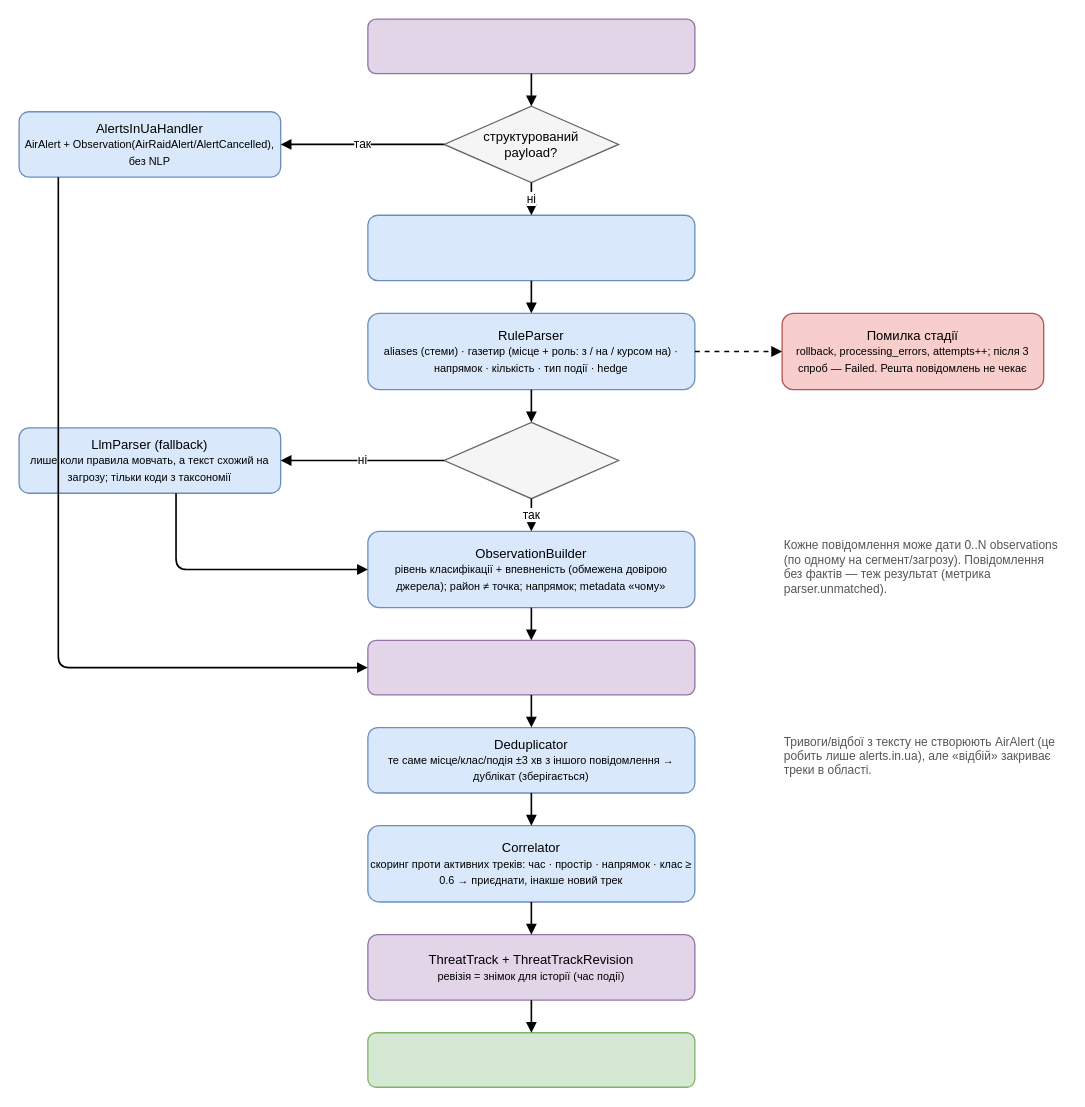
Image size: 1085x1107. Some labels were removed from this diagram. The centre of each missing label's shape, as x and y in pixels:
"COMMIT → NOTIFY puluj_events → SignalR" goes at (531,1059).
"Normalizer NFC, emoji→слова, lower-case, речення → сегменти, токени" goes at (531,247).
"Observation" goes at (531,667).
"RawMessage (Pending) оригінальний текст/payload, незмінний" goes at (531,46).
"є факти?" goes at (531,460).
